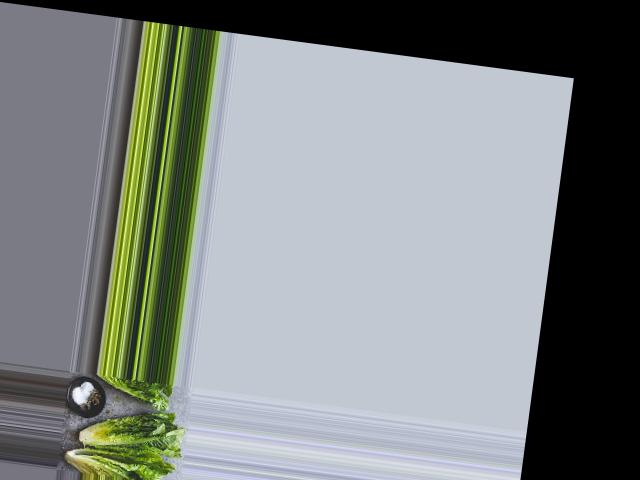lettuce: (56, 440, 168, 480)
